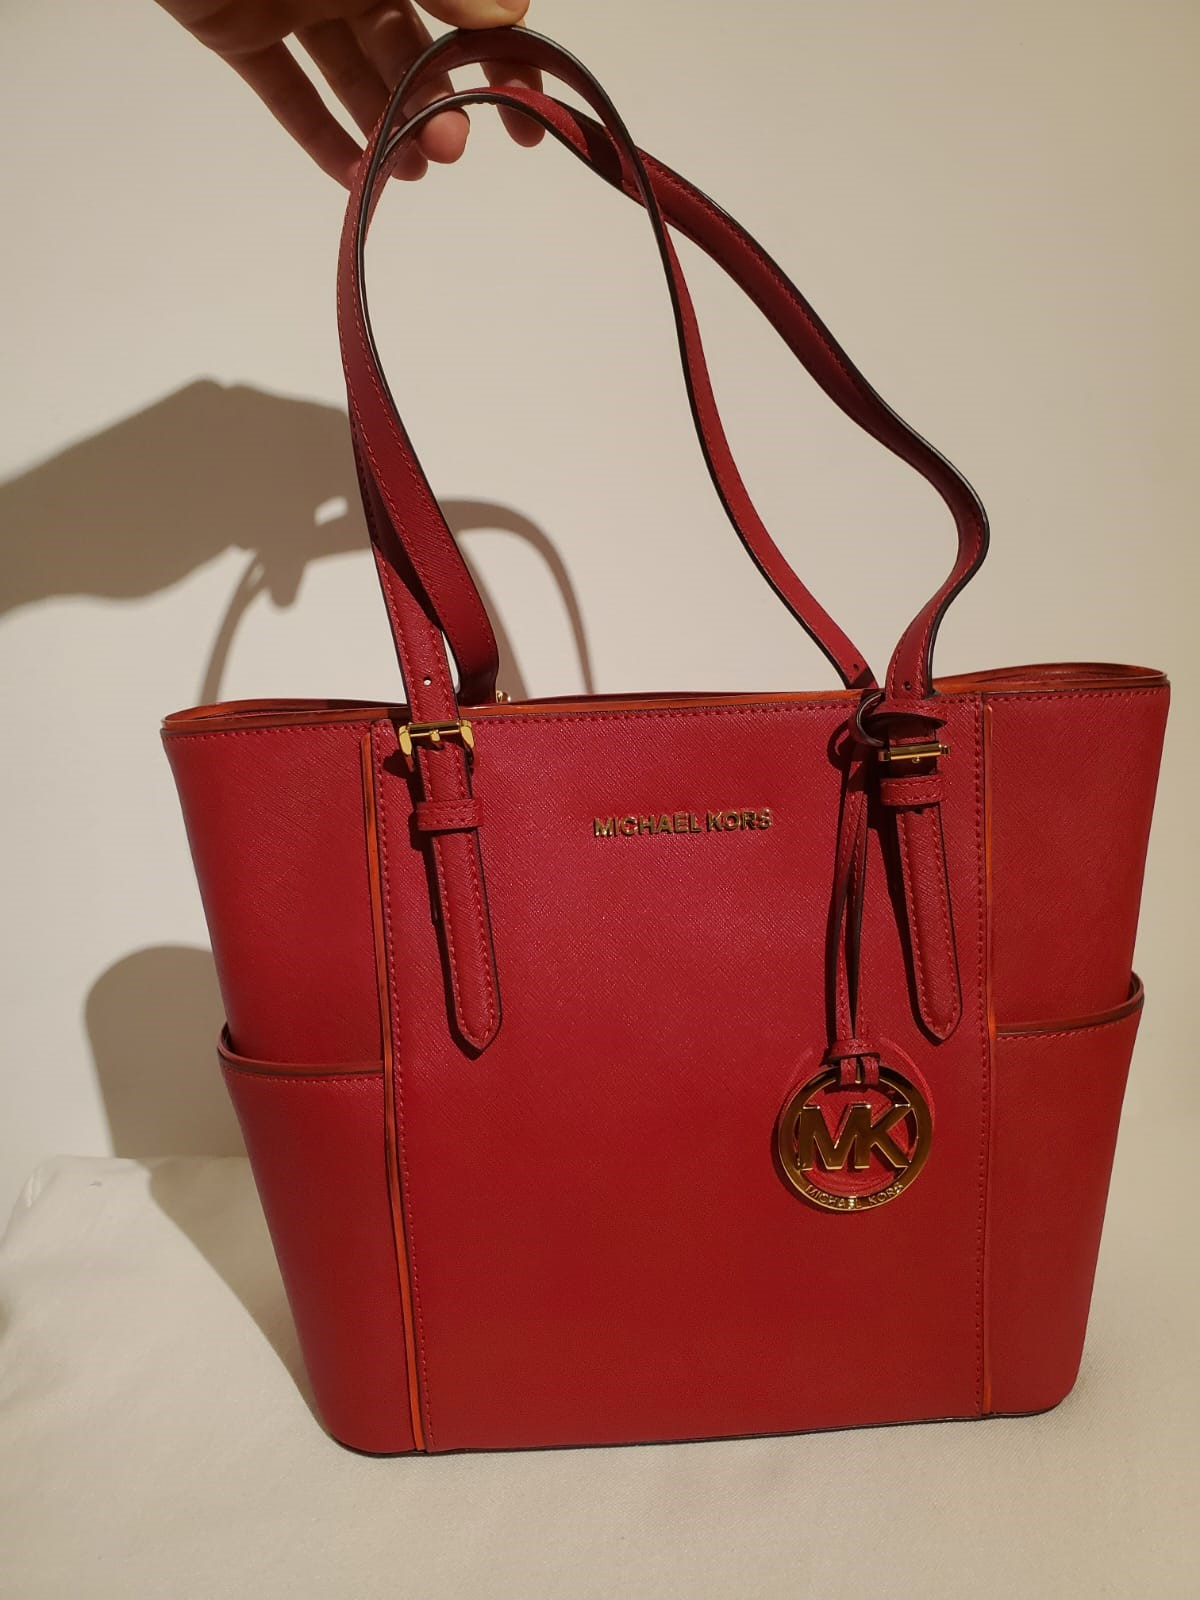cartera: (144, 21, 1181, 1482)
cuero: (344, 703, 1065, 1427)
